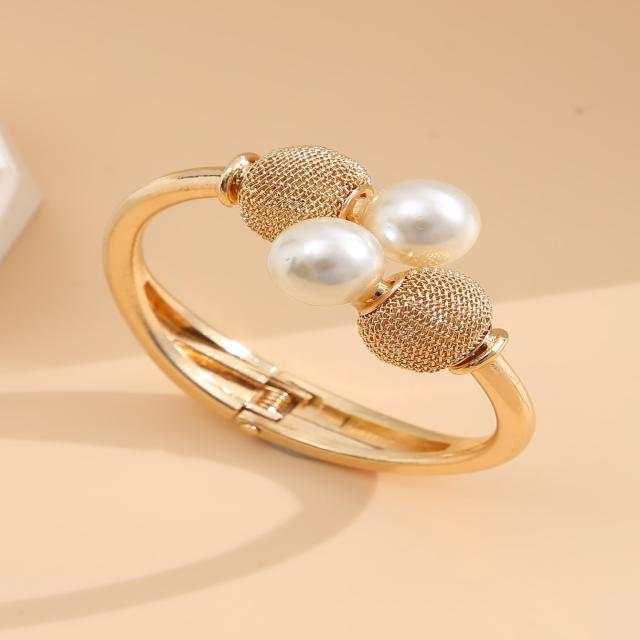bracelet: (100, 111, 640, 639)
